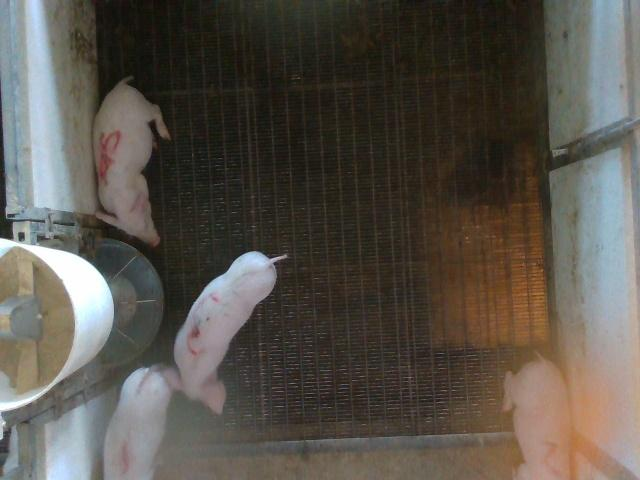pig-1: (104, 368, 171, 478)
pig-2: (502, 355, 570, 478)
pig-3: (150, 251, 286, 413)
pig-5: (94, 76, 170, 246)
